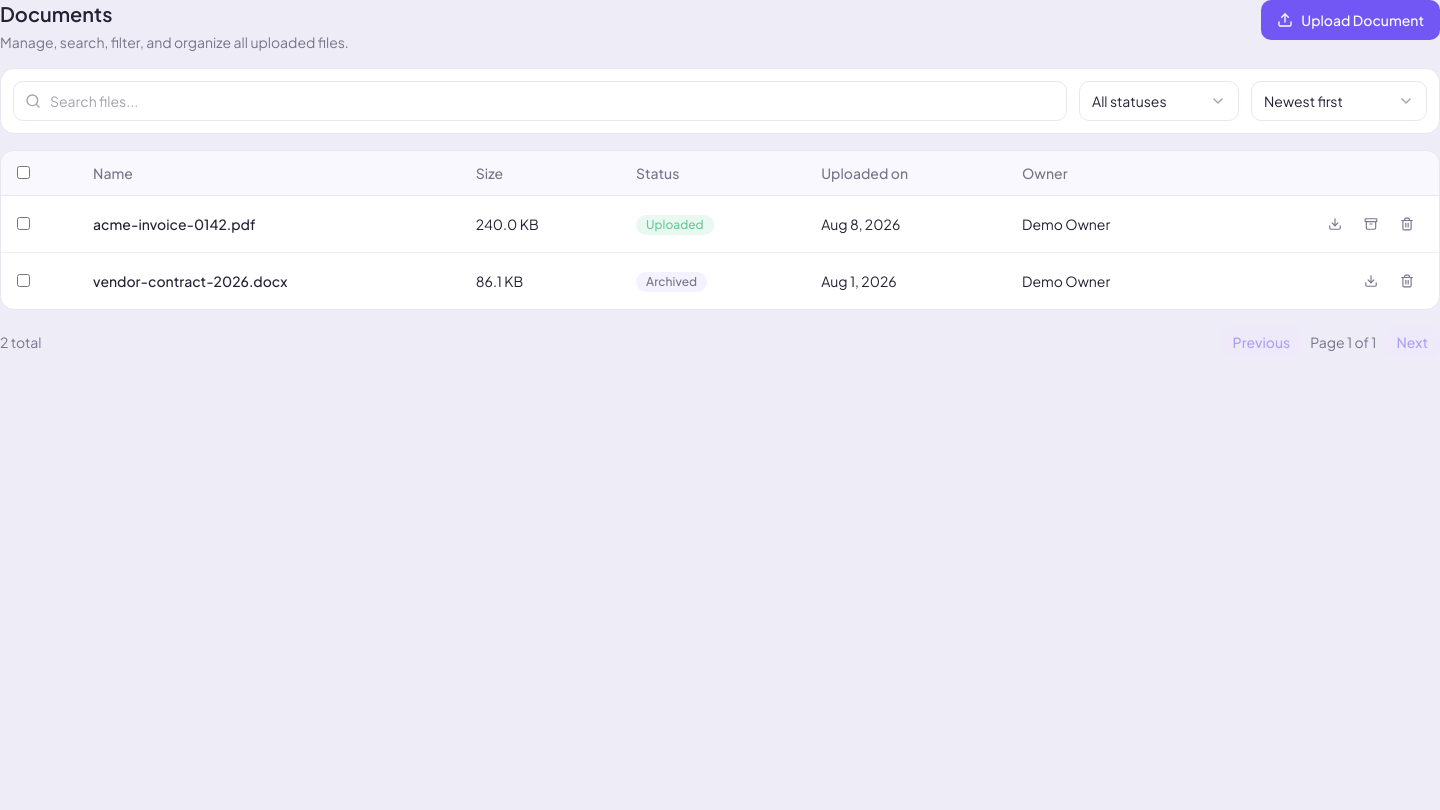
Test: DocumentsPage — upload › opens the upload dialog from the toolbar button
This screenshot has width=1440, height=810.
Expected: the text "acme-invoice-0142.pdf" is shown, [77,196,460,252]
Click the button "Upload Document". click: (1351, 20)
box: [1261,0,1439,40]
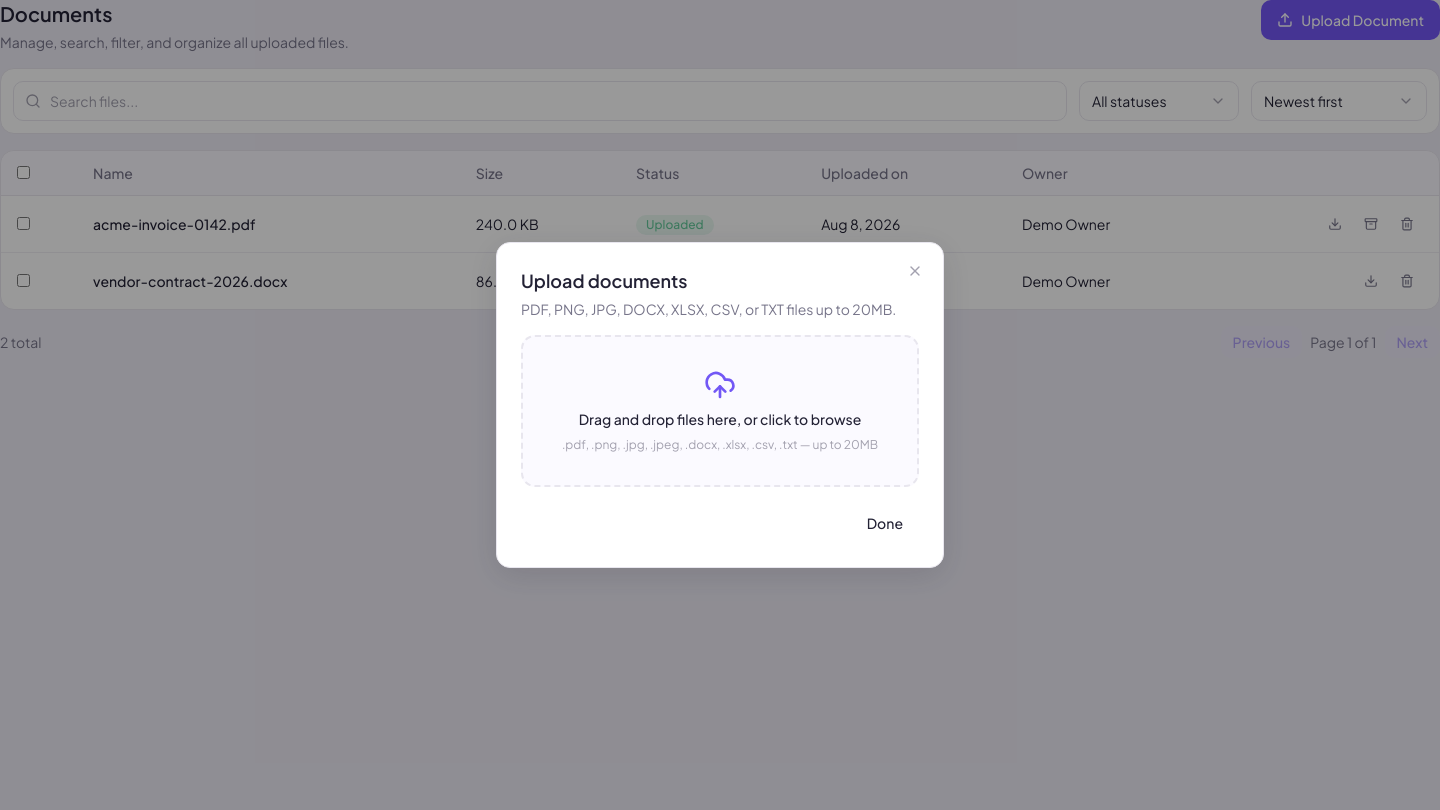
Result: the dialog "Upload documents" is shown at [496,242,944,568]
